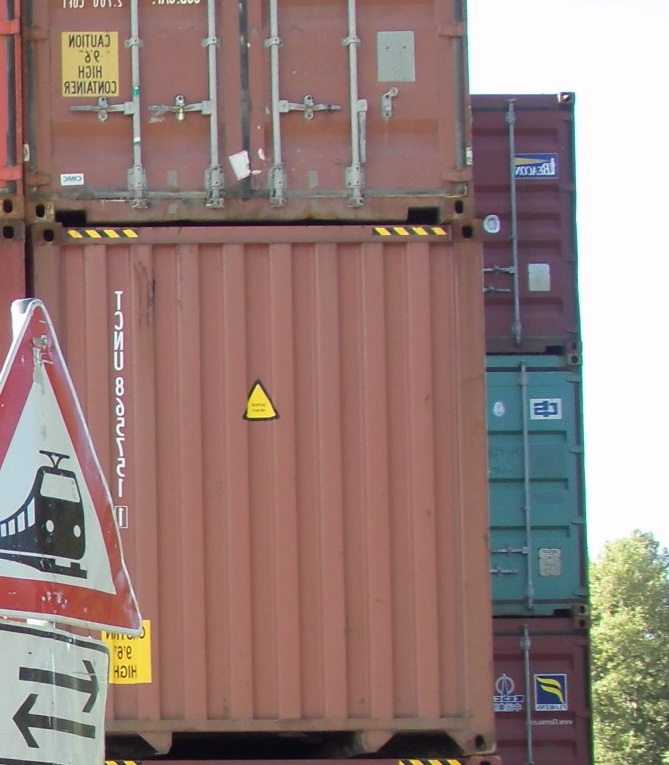container_door: (25, 1, 470, 222), (471, 88, 582, 353), (487, 356, 587, 612), (495, 614, 593, 763)
container_no_door: (27, 221, 496, 750)
